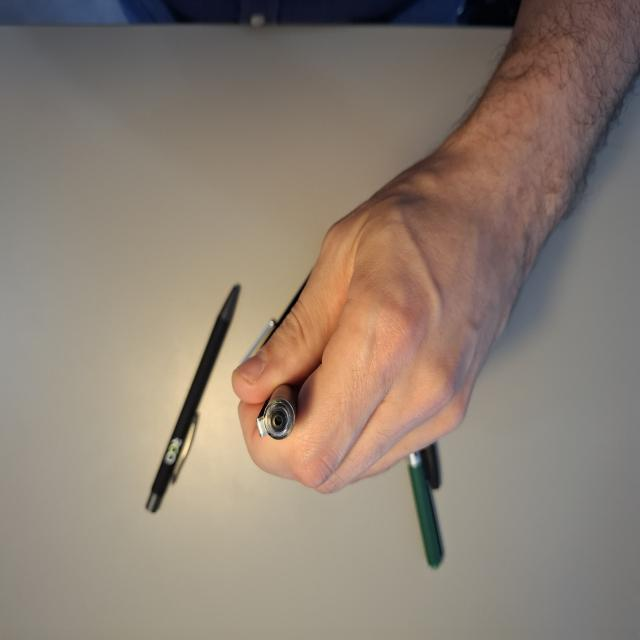glove_off: (230, 158, 526, 497)
